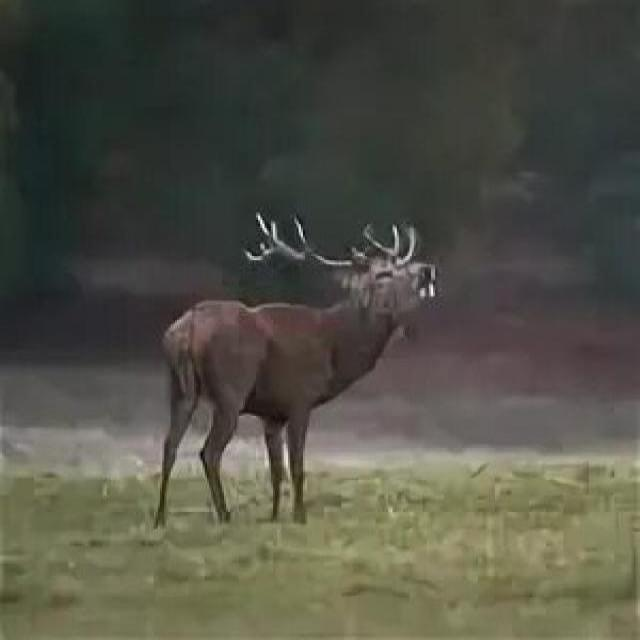deer: (78, 164, 494, 561)
